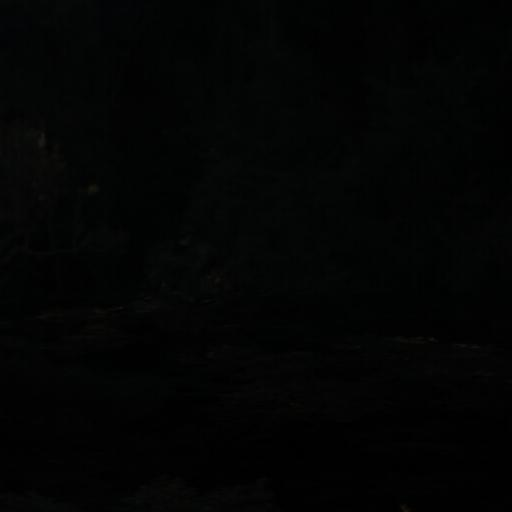nothing: (2, 2, 512, 510)
